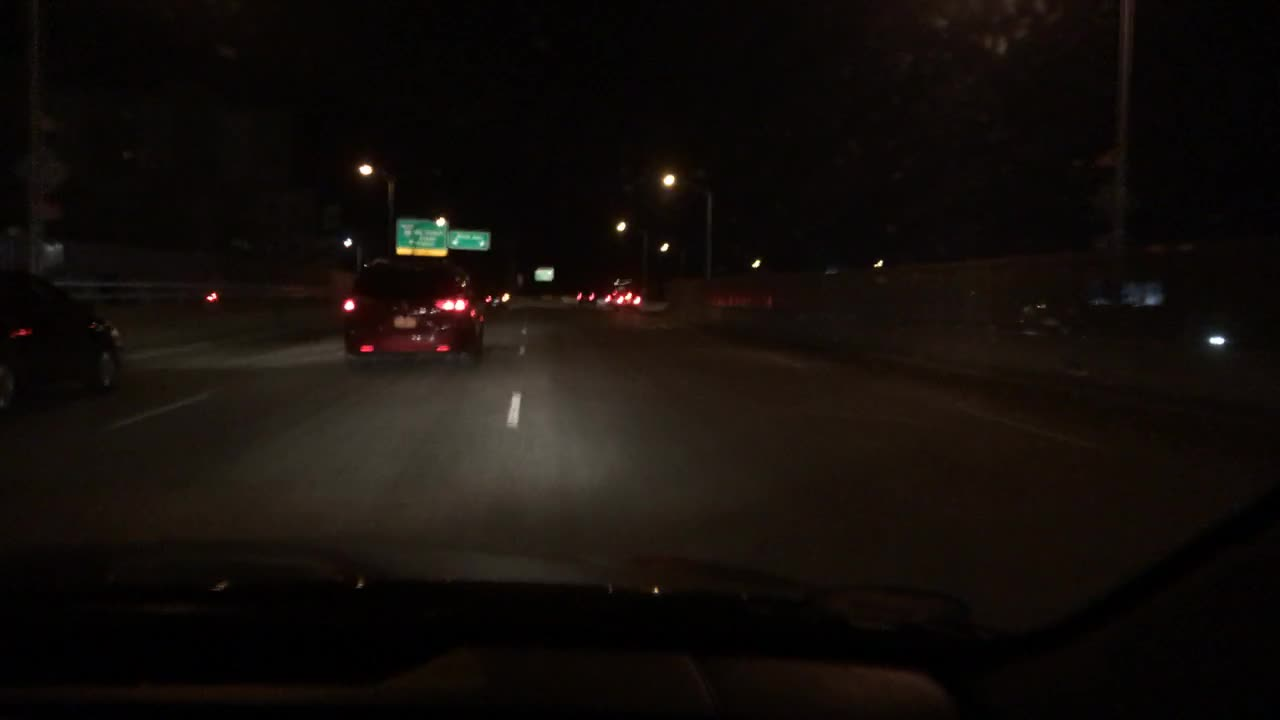car: (0, 263, 122, 418), (345, 257, 485, 364), (999, 299, 1087, 336), (607, 286, 643, 310), (576, 290, 595, 304)
traffic sign: (395, 216, 444, 255), (447, 228, 491, 252), (484, 289, 512, 309), (535, 267, 556, 281)
